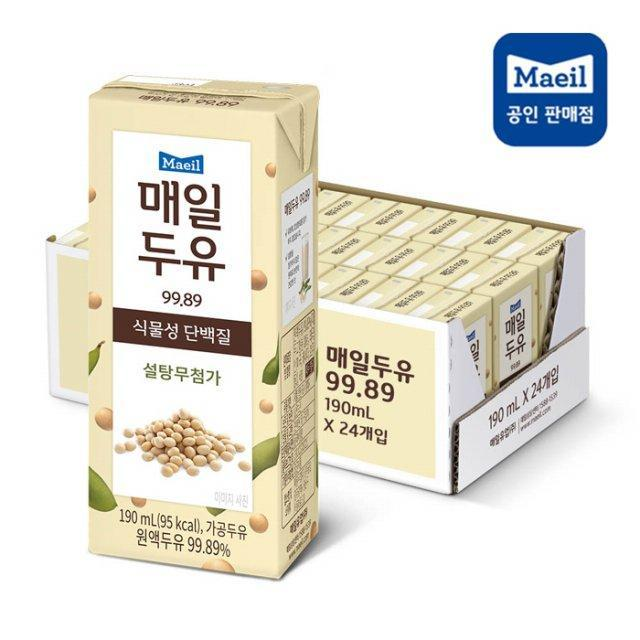Tetra: (89, 63, 319, 584)
